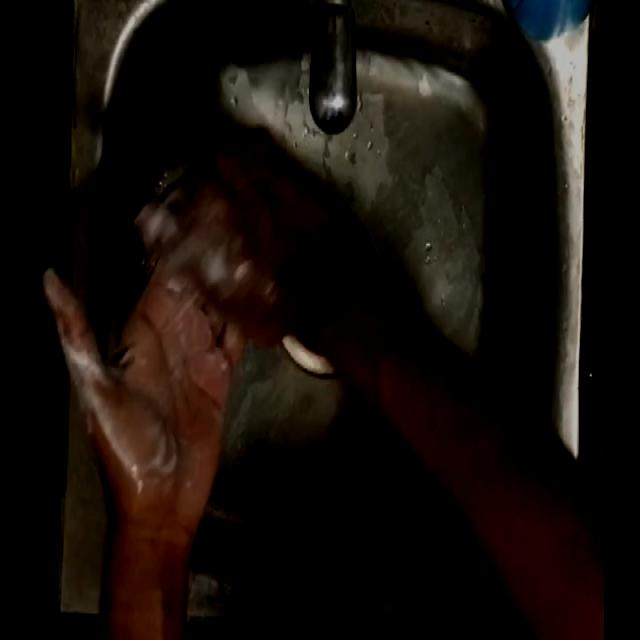step_5: (38, 115, 342, 523)
